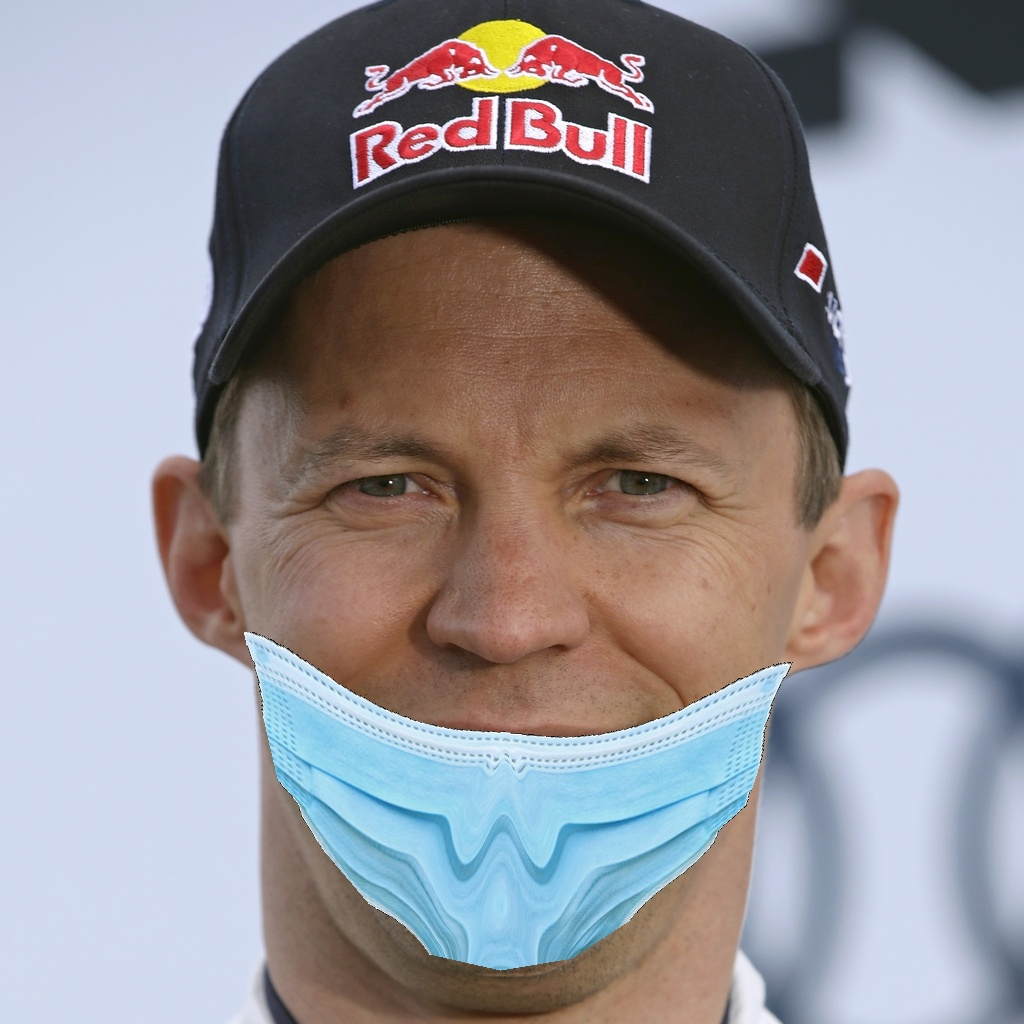mascarilla_mal_puesta: (187, 463, 887, 985)
